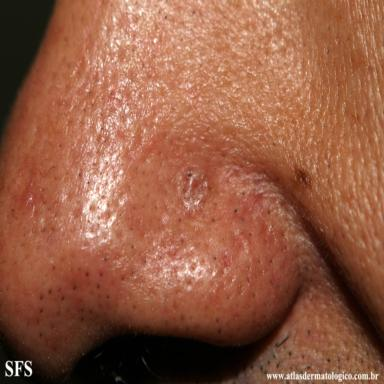basal-cell-carcinoma: (179, 168, 209, 212)
